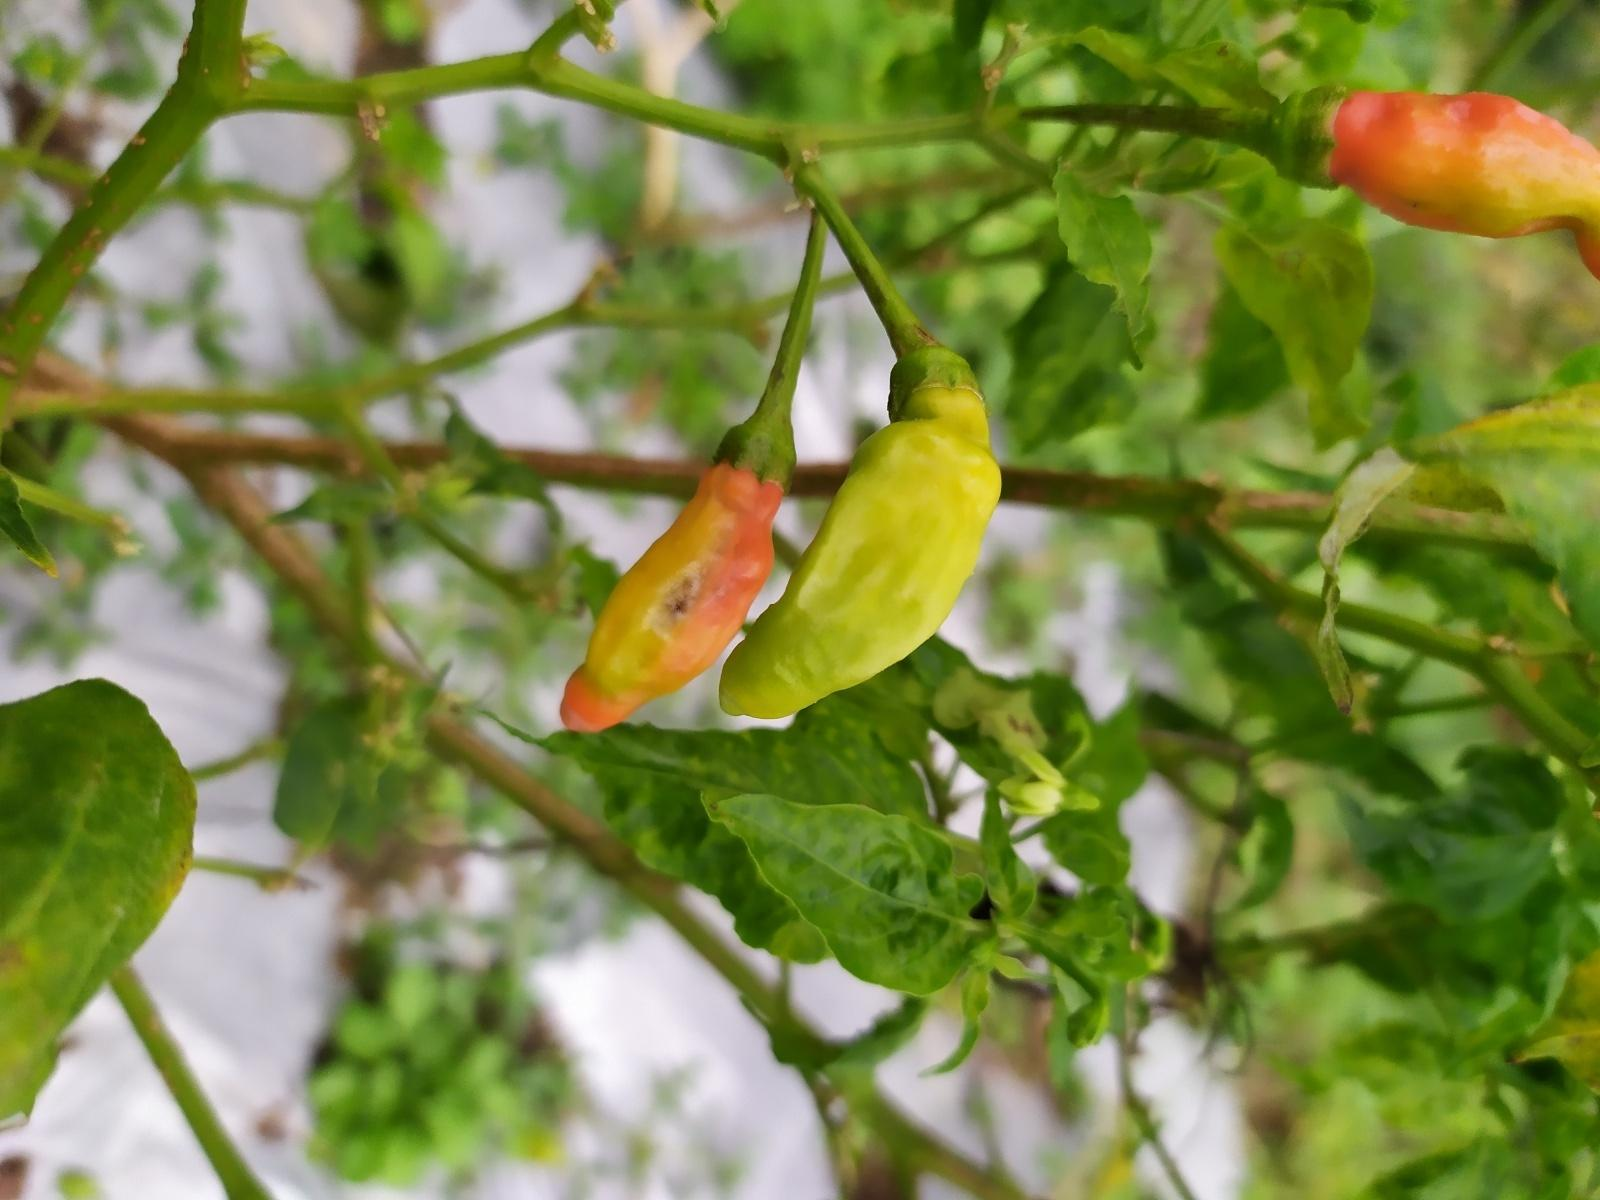cabai_normal: (718, 374, 1005, 721), (1322, 88, 1597, 275)
lalat_buah: (559, 464, 791, 735)
